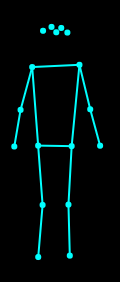mountain: (9, 18, 105, 263)
